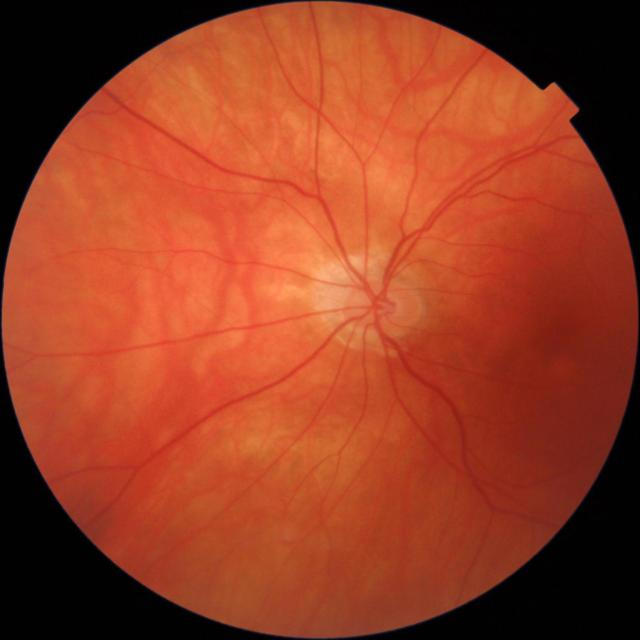OC: (386, 298, 402, 312)
OD: (343, 282, 422, 332)
